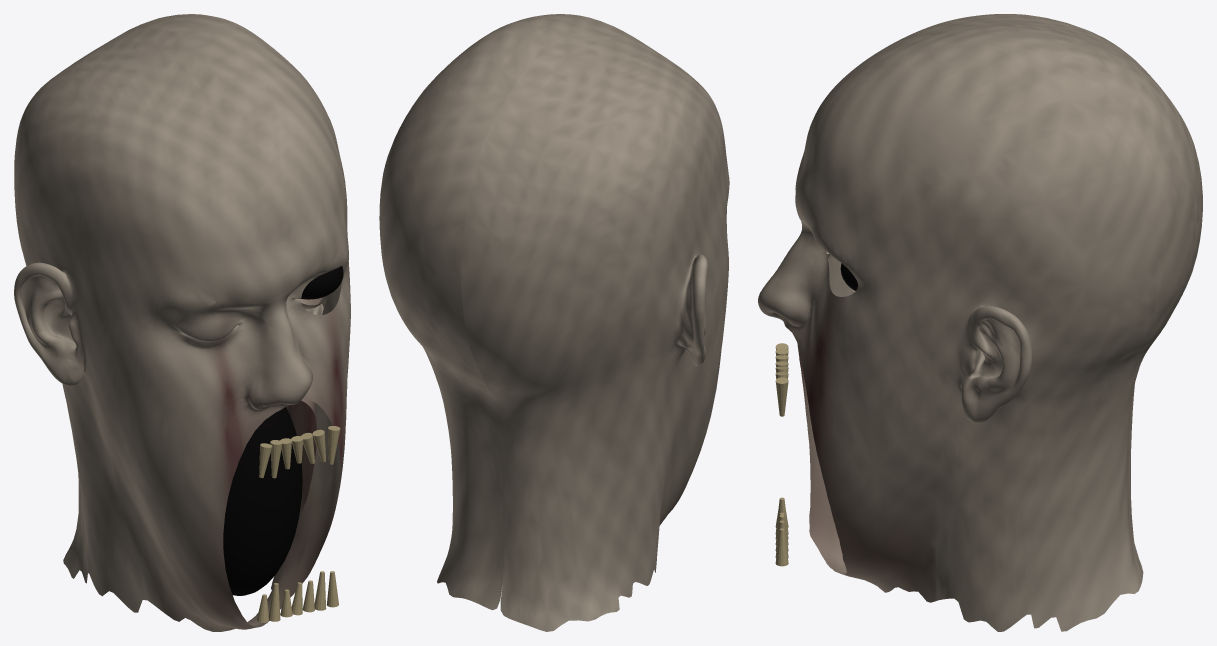
File: passage-head.glb
3 views of the same model, side by side, from view 1: azimuth 30°, elevation 25°; view 2: azimuth 150°, elevation 25°; view 3: azimuth 270°, elevation 25° (orthographic). The views are drawn at different scales.
Visible parts, largest first — view 1: Deformed anatomical head - Lee Perry-Smith derivative, Deep open throat, Black eye recess.001; view 2: Deformed anatomical head - Lee Perry-Smith derivative; view 3: Deformed anatomical head - Lee Perry-Smith derivative.
Part boxes in pixels (left/top/right/bottom): Deformed anatomical head - Lee Perry-Smith derivative: left=14, top=14, right=350, bottom=631; Deep open throat: left=223, top=407, right=302, bottom=595; Black eye recess.001: left=301, top=266, right=343, bottom=299; Deformed anatomical head - Lee Perry-Smith derivative: left=379, top=14, right=729, bottom=631; Deformed anatomical head - Lee Perry-Smith derivative: left=758, top=14, right=1202, bottom=631.
Size of the model in its own units: 0.4702 by 0.7793 by 0.5471.
